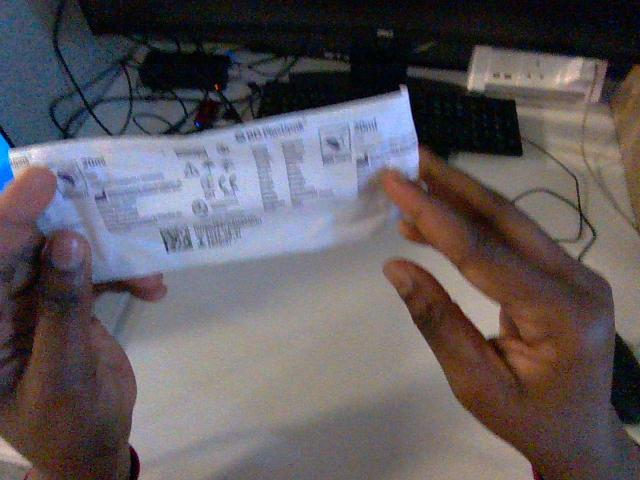syringe: (9, 88, 417, 281)
